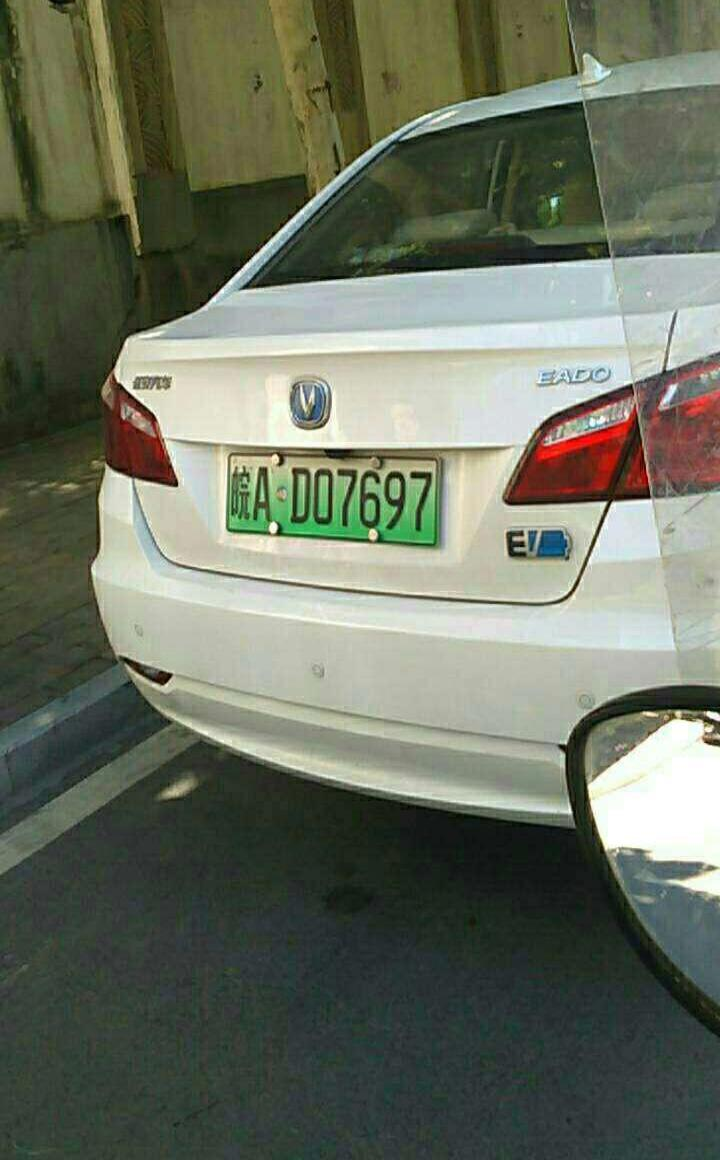car_id: (221, 451, 440, 544)
